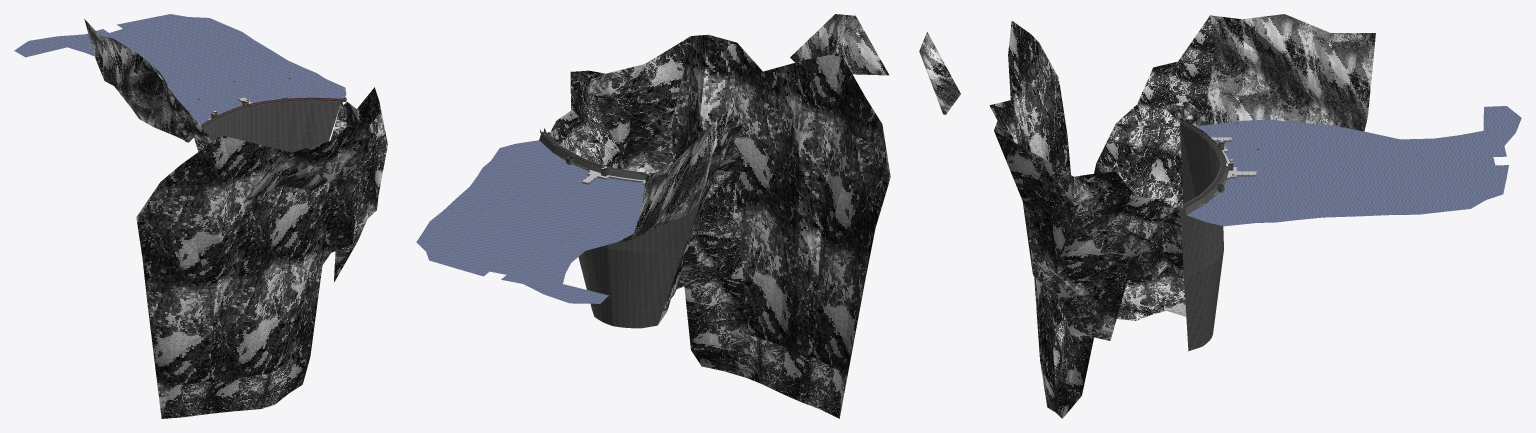
File: dam22.obj
3 views of the same model, side by side, from view 1: azimuth 30°, elevation 25°; view 2: azimuth 150°, elevation 25°; view 3: azimuth 270°, elevation 25° (orthographic). The views are drawn at different scales.
Parts seen in each view (by area): view 1: 016_4E6D6411_c.bmp, 002_250FD62A_c.bmp, 007_250FD62A_c.bmp, 006_250FD62A_c.bmp, 003_250FD62A_c.bmp, 004_250FD62A_c.bmp, 001_250FD62A_c.bmp, 042_255D277A_c.bmp, 008_250FD62A_c.bmp, 017_103AE2DC_c.bmp, 014_103AE2DC_c.bmp, 000_103AE2DC_c.bmp (+7 smaller); view 2: 016_4E6D6411_c.bmp, 007_250FD62A_c.bmp, 002_250FD62A_c.bmp, 008_250FD62A_c.bmp, 001_250FD62A_c.bmp, 006_250FD62A_c.bmp, 003_250FD62A_c.bmp, 017_103AE2DC_c.bmp, 041_255D277A_c.bmp, 004_250FD62A_c.bmp, 000_103AE2DC_c.bmp, 010_250FD62A_c.bmp (+10 smaller); view 3: 016_4E6D6411_c.bmp, 017_103AE2DC_c.bmp, 008_250FD62A_c.bmp, 009_250FD62A_c.bmp, 002_250FD62A_c.bmp, 012_250FD62A_c.bmp, 013_250FD62A_c.bmp, 014_103AE2DC_c.bmp, 007_250FD62A_c.bmp, 015_250FD62A_c.bmp, 011_250FD62A_c.bmp, 038_255D277A_c.bmp (+6 smaller).
Part boxes in pixels (x1,y1,x2,y2): 016_4E6D6411_c.bmp: (14,14,346,124); 002_250FD62A_c.bmp: (136,135,265,302); 007_250FD62A_c.bmp: (210,256,322,413); 006_250FD62A_c.bmp: (147,288,232,418); 003_250FD62A_c.bmp: (194,206,276,303); 004_250FD62A_c.bmp: (266,183,348,266); 001_250FD62A_c.bmp: (254,125,370,216); 042_255D277A_c.bmp: (273,100,340,152); 008_250FD62A_c.bmp: (356,87,387,216); 017_103AE2DC_c.bmp: (84,19,152,126); 014_103AE2DC_c.bmp: (128,53,175,136); 000_103AE2DC_c.bmp: (243,155,325,202); 016_4E6D6411_c.bmp: (416,140,644,303); 007_250FD62A_c.bmp: (684,201,800,401); 002_250FD62A_c.bmp: (781,53,890,282); 008_250FD62A_c.bmp: (570,36,690,168); 001_250FD62A_c.bmp: (672,34,807,150); 006_250FD62A_c.bmp: (797,245,864,418); 003_250FD62A_c.bmp: (761,144,836,264); 017_103AE2DC_c.bmp: (619,122,715,241); 041_255D277A_c.bmp: (626,249,684,328); 004_250FD62A_c.bmp: (689,113,780,211); 000_103AE2DC_c.bmp: (790,14,888,75); 010_250FD62A_c.bmp: (677,229,743,288); 016_4E6D6411_c.bmp: (1187,106,1521,226); 017_103AE2DC_c.bmp: (1242,14,1375,131); 008_250FD62A_c.bmp: (994,131,1135,274); 009_250FD62A_c.bmp: (1033,230,1128,340); 002_250FD62A_c.bmp: (1008,21,1070,174); 012_250FD62A_c.bmp: (1094,122,1183,218); 013_250FD62A_c.bmp: (1116,16,1215,125); 014_103AE2DC_c.bmp: (1205,15,1257,124); 007_250FD62A_c.bmp: (1034,276,1093,418); 015_250FD62A_c.bmp: (1123,196,1183,280); 011_250FD62A_c.bmp: (1117,223,1186,320); 038_255D277A_c.bmp: (1184,260,1217,351).
Size of the model in its own units: 9.09 by 9.57 by 14.49.
